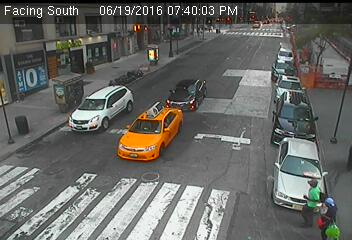neg: (271, 52, 299, 89), (278, 105, 292, 124)
pos: (293, 176, 334, 231)
